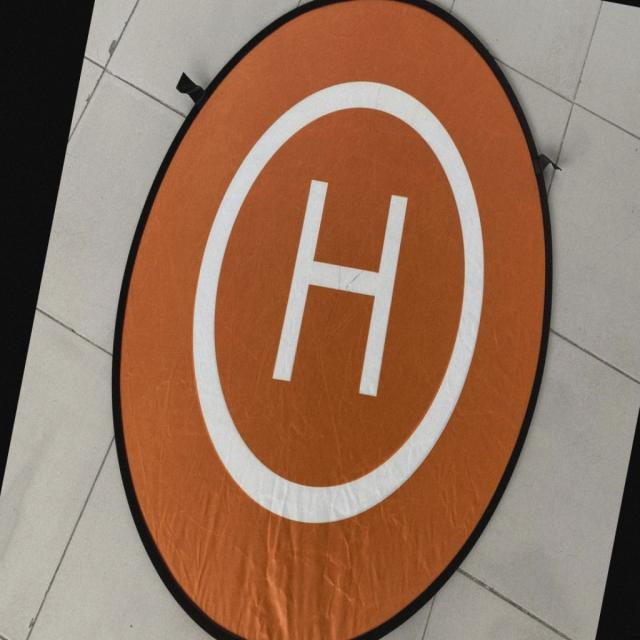helipad: (185, 72, 491, 530)
